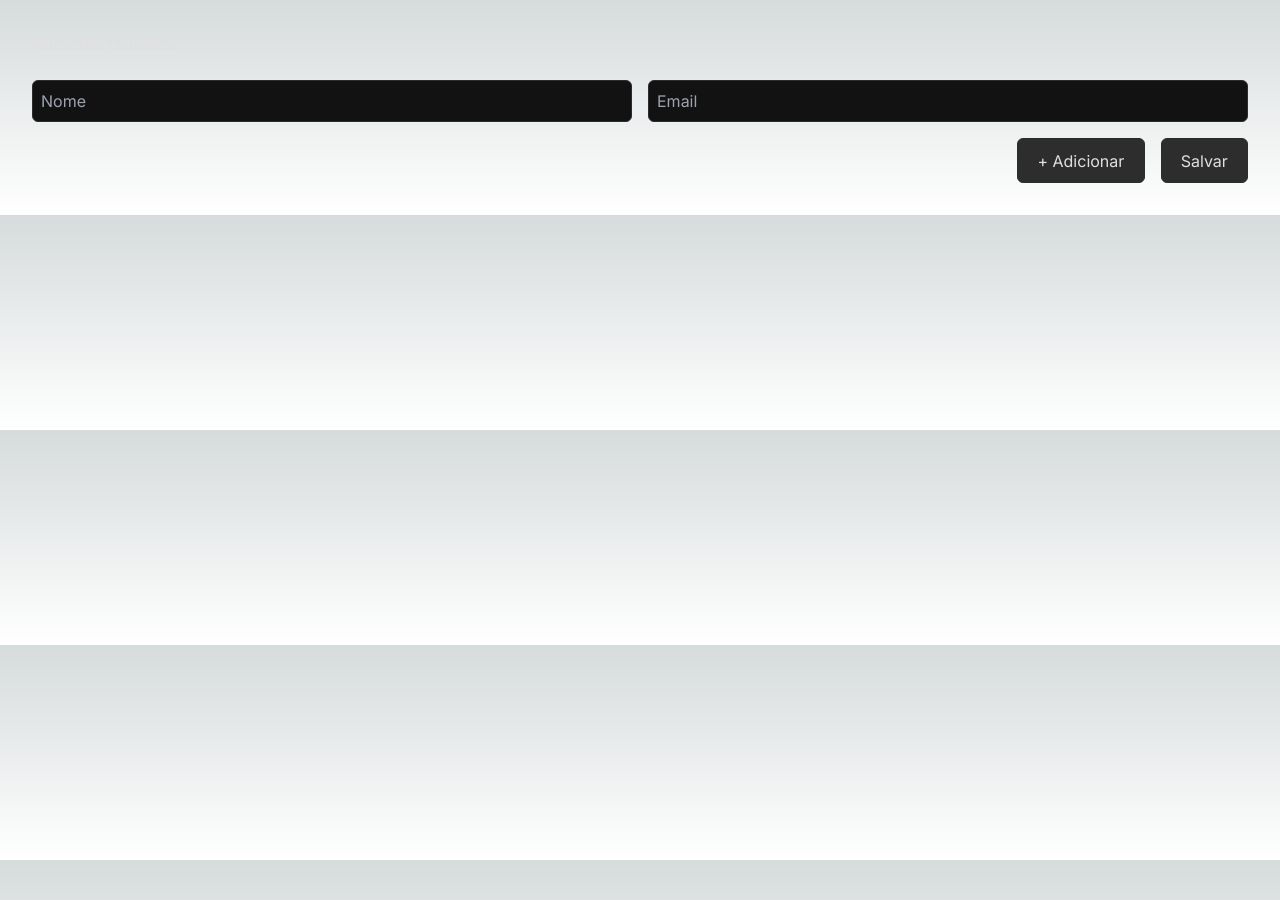
Test: <CreateUsersForm /> › deve adicionar e remover campos de usuário dinamicamente
Adiciona um novo par de campos
Click the button "+ Adicionar" at (1081, 161), box [1017, 138, 1145, 183]
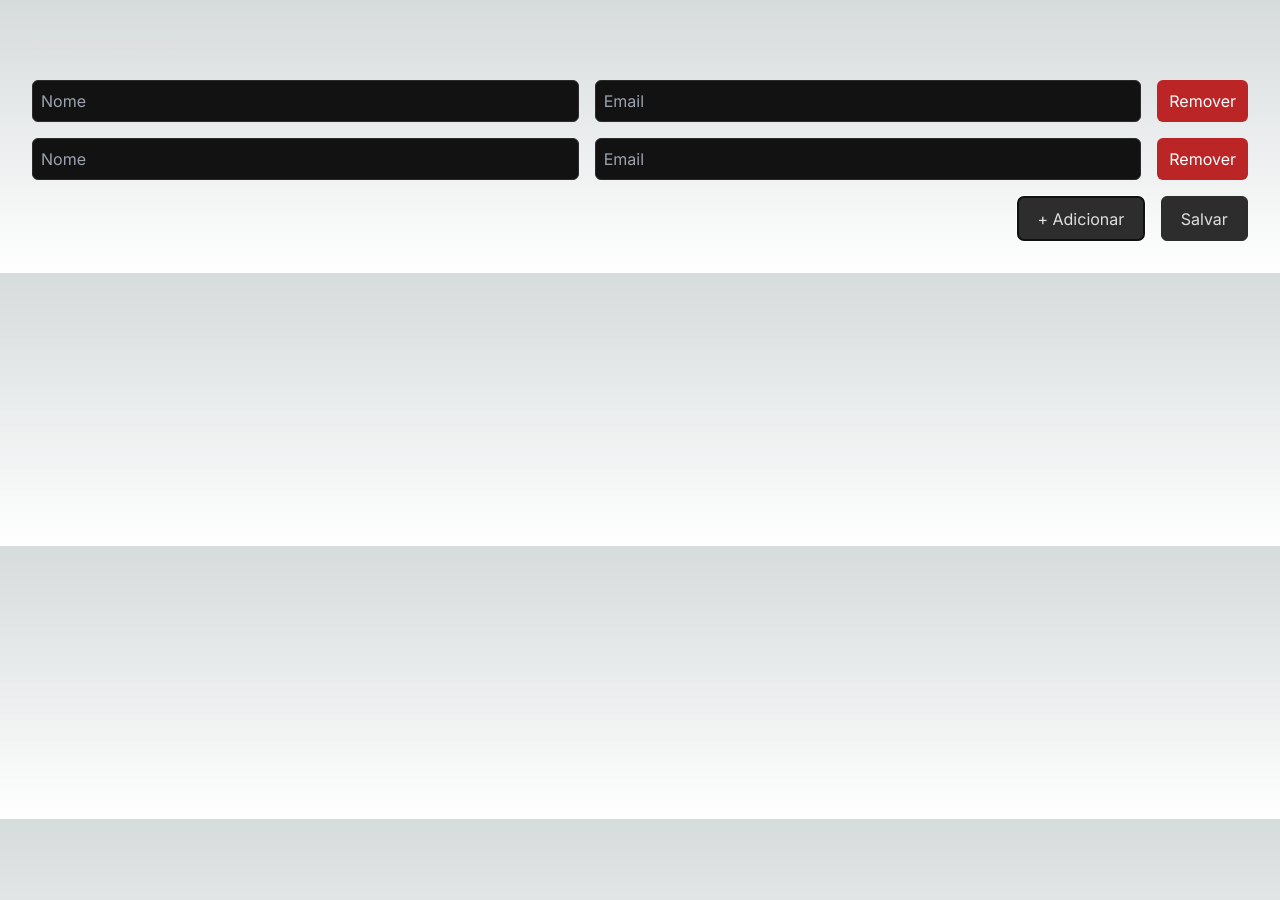
Expected: the number of fields with placeholder "Nome" is 2, [32, 80, 579, 122]; [32, 138, 579, 180]
Remove o segundo campo
Click the 1st button "Remover" at (1203, 101), box [1157, 80, 1248, 122]
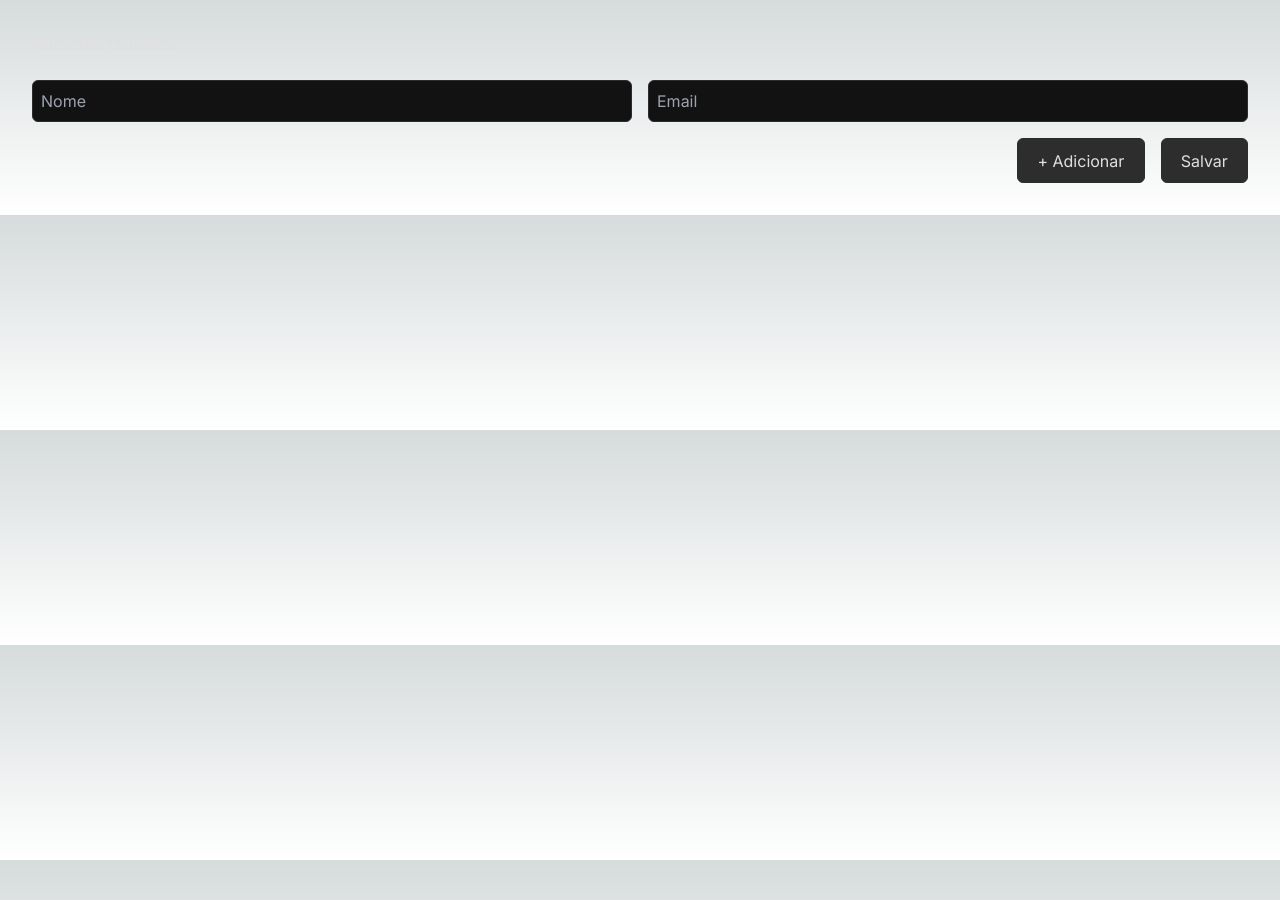
Expected: the number of fields with placeholder "Nome" is 1, [32, 80, 632, 122]
